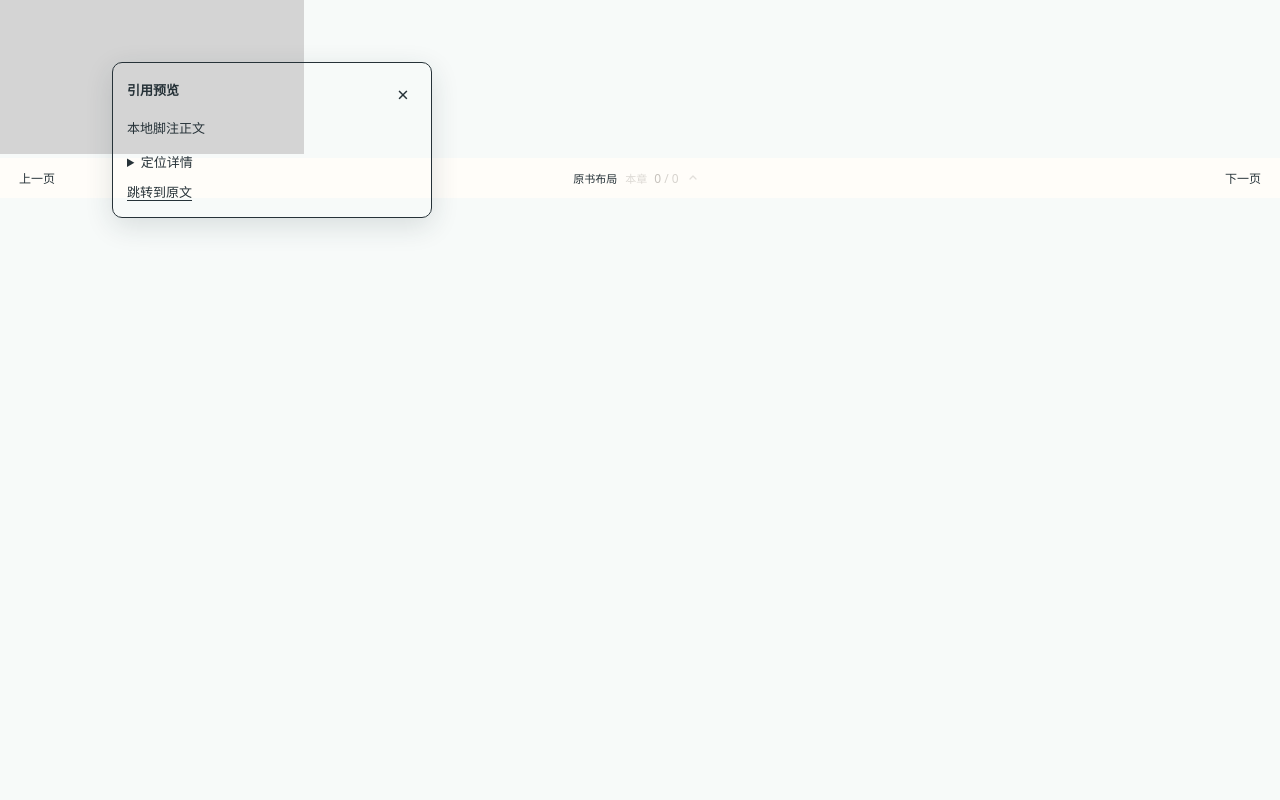
Scenario: 真实view.js与EpubReader链接策略（仅替换加载/排版/导航端点） › 现状证据：noteref 内链hover可预览，click是否固定由noteref决定
The width and height of the screenshot is (1280, 800).
Expected: the dialog shows "本地脚注正文", [127,119,205,137]
Click the button "跳转到原文" at (160, 189), box [127,174,192,203]
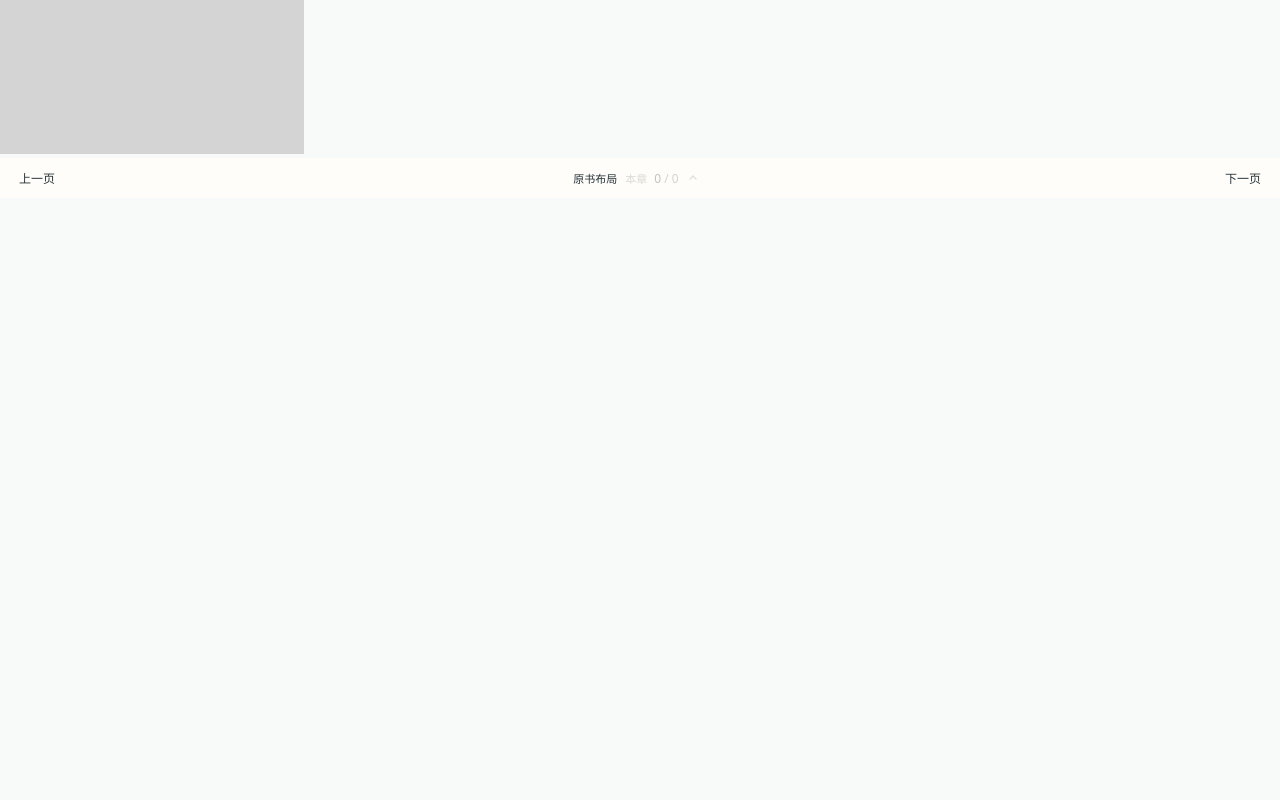
Expected: the dialog is gone
